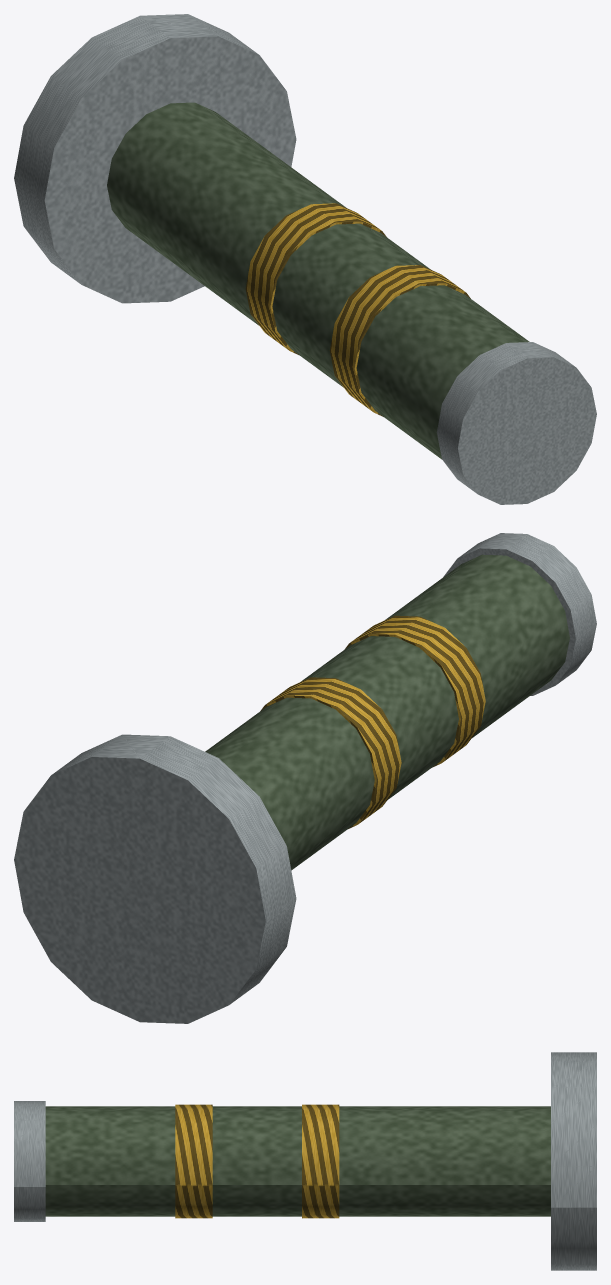
The model's file is Security_Bollard_1m.glb.
The picture shows the model from 3 angles, top to bottom: view 1: azimuth 30°, elevation 25°; view 2: azimuth 150°, elevation 25°; view 3: azimuth 270°, elevation 25°; orthographic projection. The views are drawn at different scales.
Visible parts, largest first — view 1: Security_Bollard_1m__STEEL_POST, Security_Bollard_1m__FOOT_MOUNT, Security_Bollard_1m__POST_CAP, Security_Bollard_1m__REFLECTIVE_COLLAR_0.48, Security_Bollard_1m__REFLECTIVE_COLLAR_0.7; view 2: Security_Bollard_1m__FOOT_MOUNT, Security_Bollard_1m__STEEL_POST, Security_Bollard_1m__POST_CAP, Security_Bollard_1m__REFLECTIVE_COLLAR_0.48, Security_Bollard_1m__REFLECTIVE_COLLAR_0.7; view 3: Security_Bollard_1m__STEEL_POST, Security_Bollard_1m__FOOT_MOUNT, Security_Bollard_1m__REFLECTIVE_COLLAR_0.7, Security_Bollard_1m__REFLECTIVE_COLLAR_0.48, Security_Bollard_1m__POST_CAP.
Boxes of the visible parts, left/top/right/bottom form: Security_Bollard_1m__STEEL_POST: left=107, top=102, right=529, bottom=459; Security_Bollard_1m__FOOT_MOUNT: left=14, top=14, right=296, bottom=303; Security_Bollard_1m__POST_CAP: left=436, top=342, right=596, bottom=504; Security_Bollard_1m__REFLECTIVE_COLLAR_0.48: left=245, top=203, right=386, bottom=354; Security_Bollard_1m__REFLECTIVE_COLLAR_0.7: left=329, top=265, right=470, bottom=416; Security_Bollard_1m__FOOT_MOUNT: left=14, top=734, right=296, bottom=1023; Security_Bollard_1m__STEEL_POST: left=205, top=554, right=569, bottom=870; Security_Bollard_1m__POST_CAP: left=443, top=533, right=596, bottom=695; Security_Bollard_1m__REFLECTIVE_COLLAR_0.48: left=260, top=677, right=401, bottom=828; Security_Bollard_1m__REFLECTIVE_COLLAR_0.7: left=345, top=615, right=485, bottom=767; Security_Bollard_1m__STEEL_POST: left=45, top=1106, right=550, bottom=1216; Security_Bollard_1m__FOOT_MOUNT: left=551, top=1052, right=596, bottom=1270; Security_Bollard_1m__REFLECTIVE_COLLAR_0.7: left=175, top=1104, right=212, bottom=1218; Security_Bollard_1m__REFLECTIVE_COLLAR_0.48: left=302, top=1104, right=339, bottom=1218; Security_Bollard_1m__POST_CAP: left=14, top=1101, right=45, bottom=1221.
Size of the model in its own units: 0.38 by 0.38 by 1.01.
3 materials, 3 textured.
